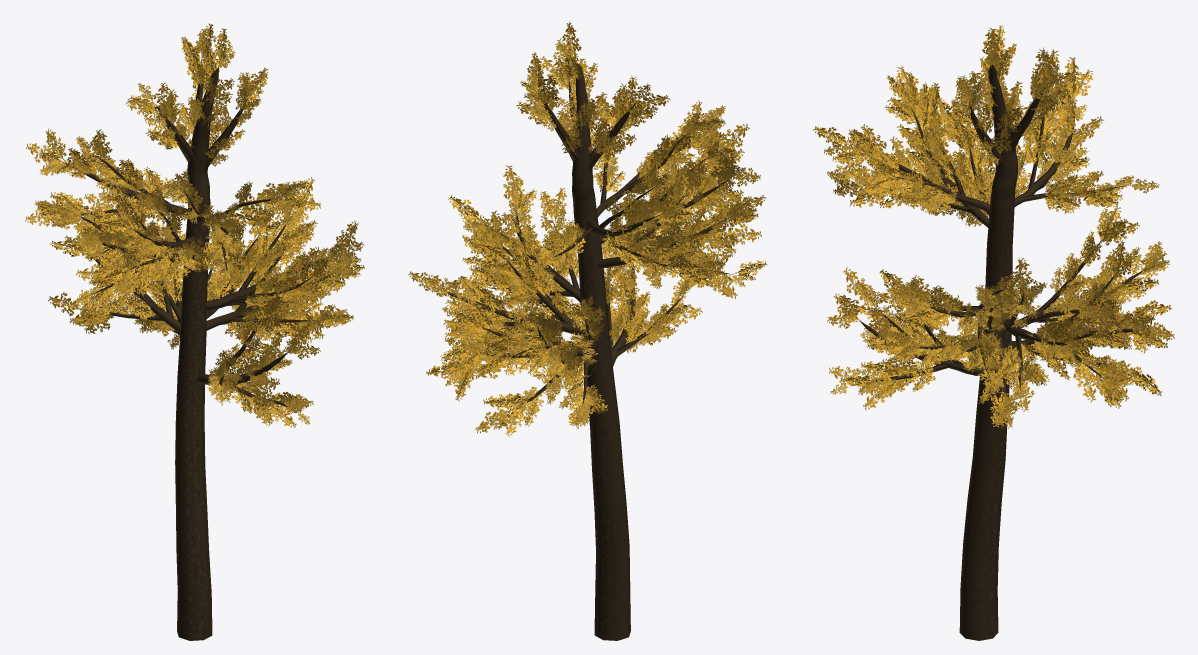
Rendered from yinxing.glb.
3 renders of one model, left to right at view 1: azimuth 30°, elevation 25°; view 2: azimuth 150°, elevation 25°; view 3: azimuth 270°, elevation 25°, orthographic. The views are drawn at different scales.
Parts seen in each view (by area): view 1: leaves, bark; view 2: leaves, bark; view 3: leaves, bark.
Part boxes in pixels (x1,y1,x2,y2): leaves: [25, 23, 364, 428]; bark: [60, 59, 333, 640]; leaves: [408, 21, 766, 436]; bark: [444, 62, 732, 640]; leaves: [813, 25, 1174, 428]; bark: [852, 64, 1142, 640].
Size of what is drawn, in the model's own units: 6.96 by 13 by 7.1.
Materials: 2 (2 with a texture image).
